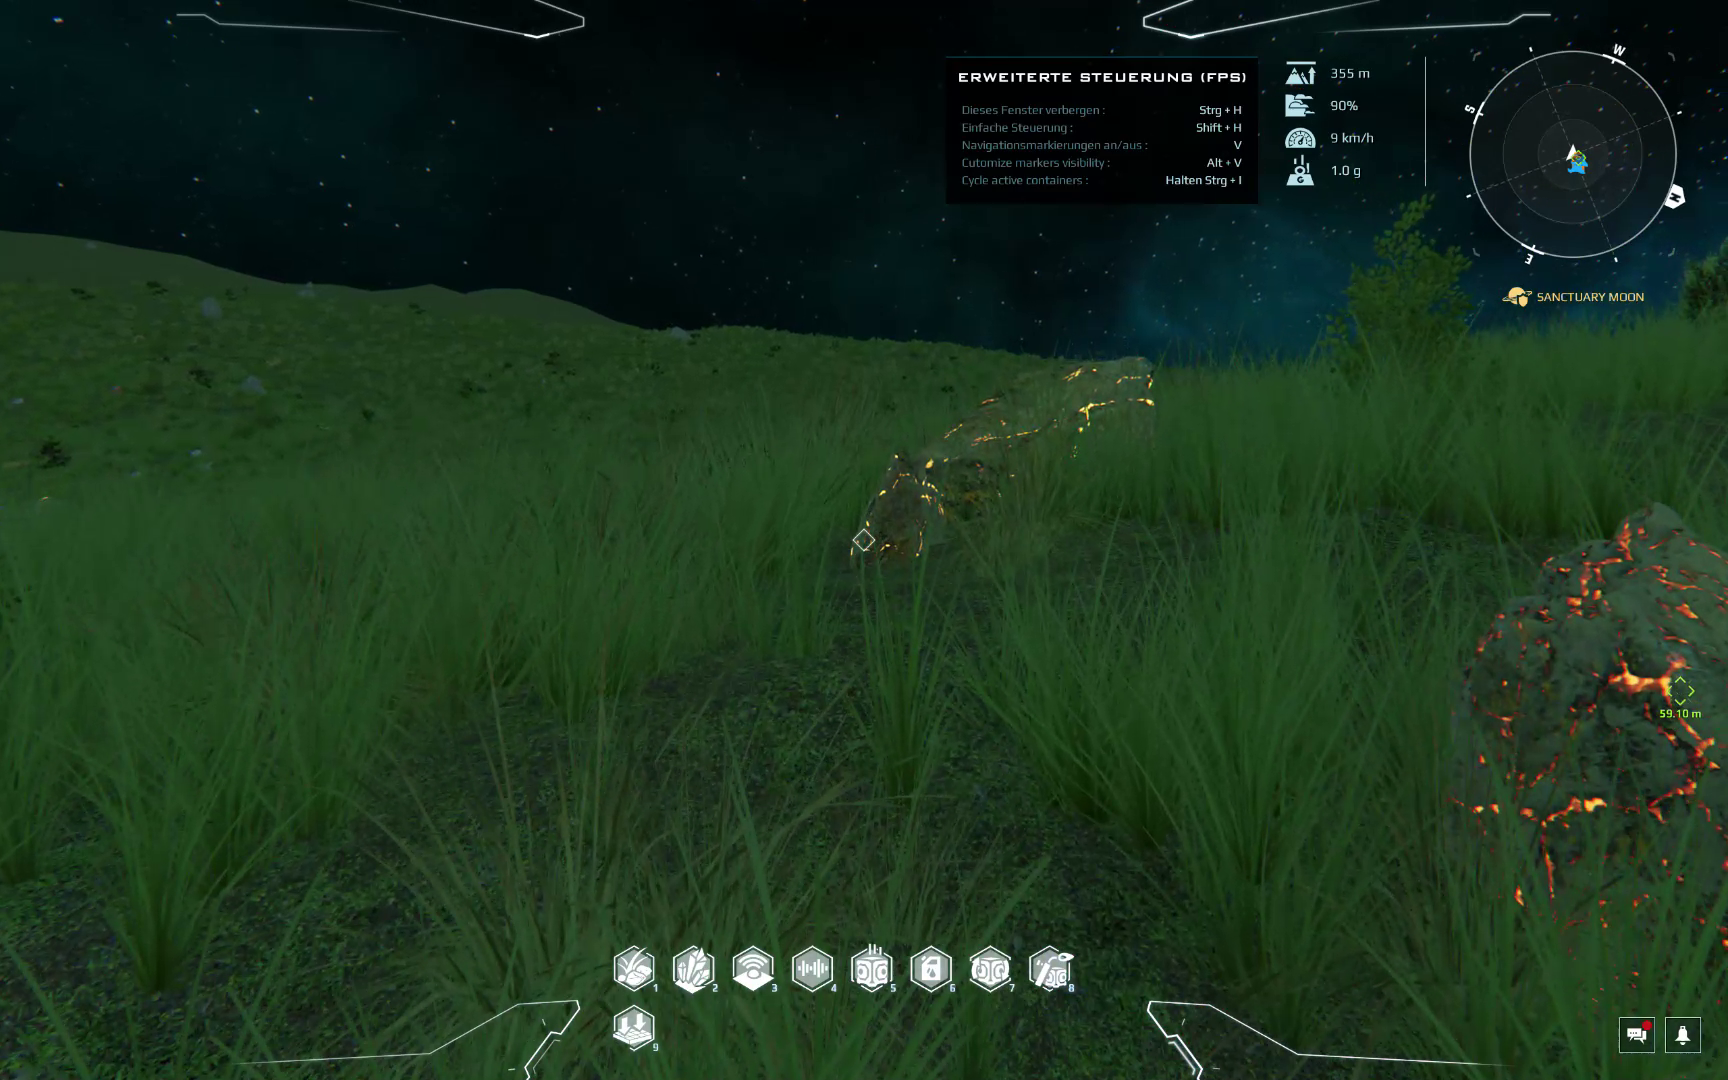Ore: (1434, 504, 1728, 966), (936, 357, 1161, 501), (838, 444, 955, 580)
